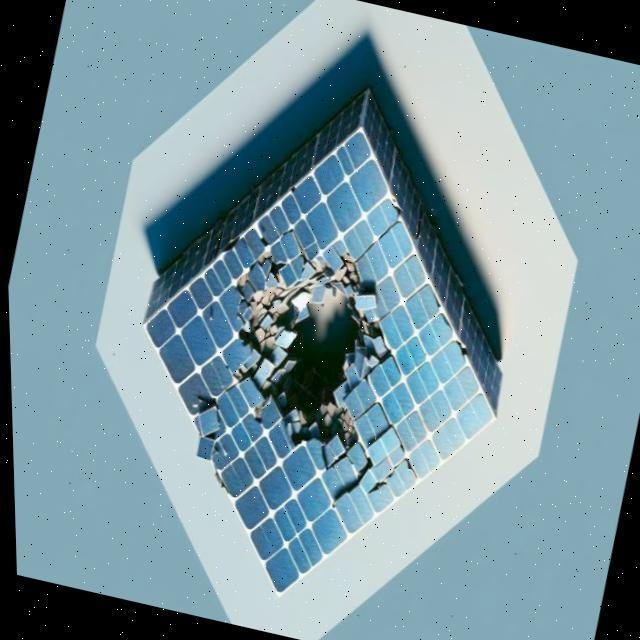Anomaly Solar Panel: (105, 130, 529, 596)
Structural Damage: (209, 224, 405, 514), (190, 393, 222, 463)
